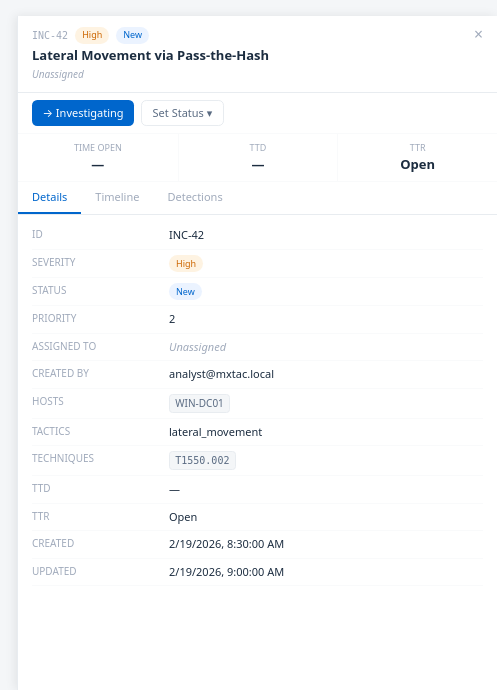
Test: IncidentPanel › Set Status dropdown › shows all status options when "Set Status ▾" is clicked
This screenshot has width=497, height=690.
Click the button "Set Status ▾" at (182, 113), box [141,100,224,126]
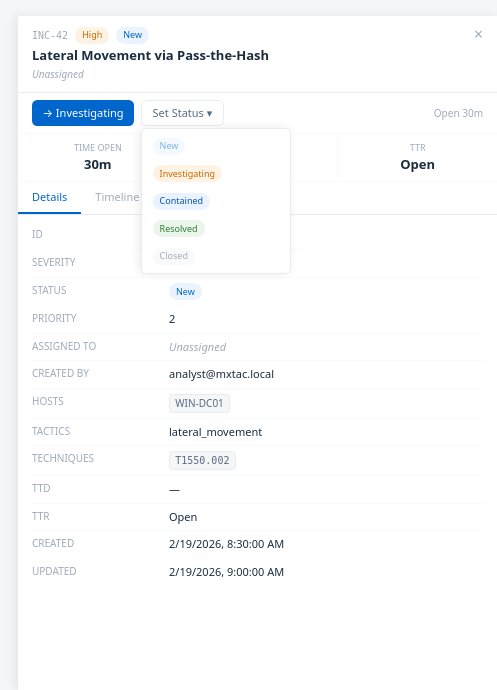
Now the text "Investigating" is shown, box [153,165,222,182]
Now the text "Contained" is shown, box [153,193,210,210]
Now the text "Resolved" is shown, box [153,220,204,237]
